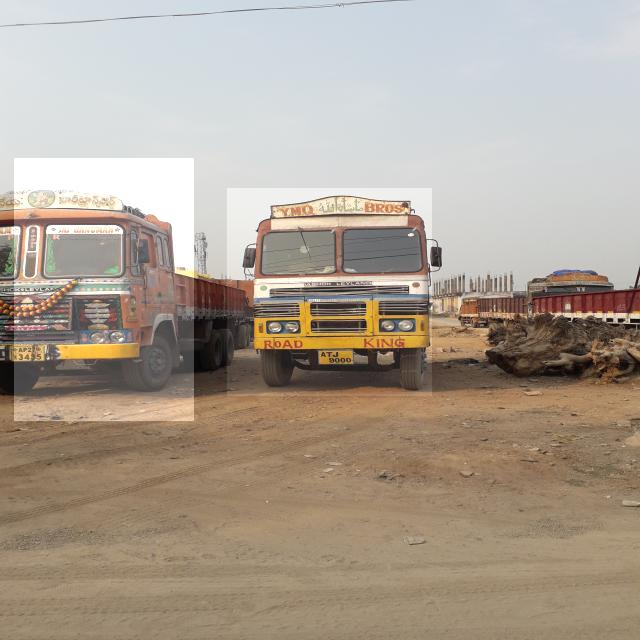Truck: (14, 158, 194, 421), (227, 188, 432, 396)
